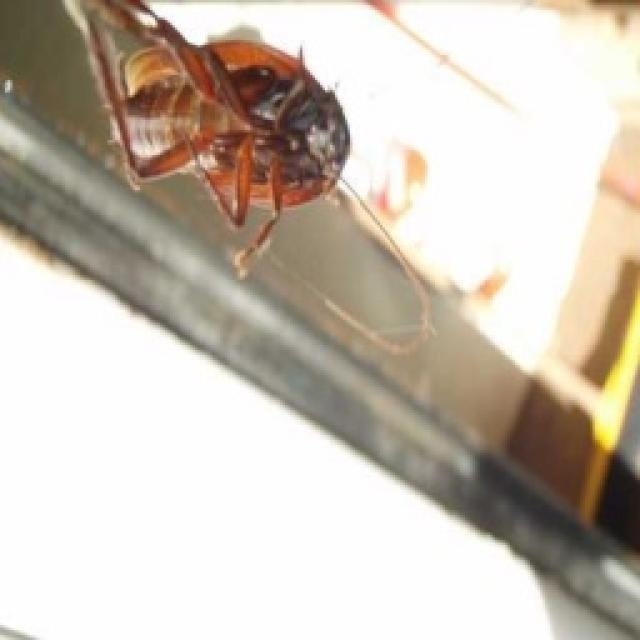cockroach: (30, 0, 379, 280)
